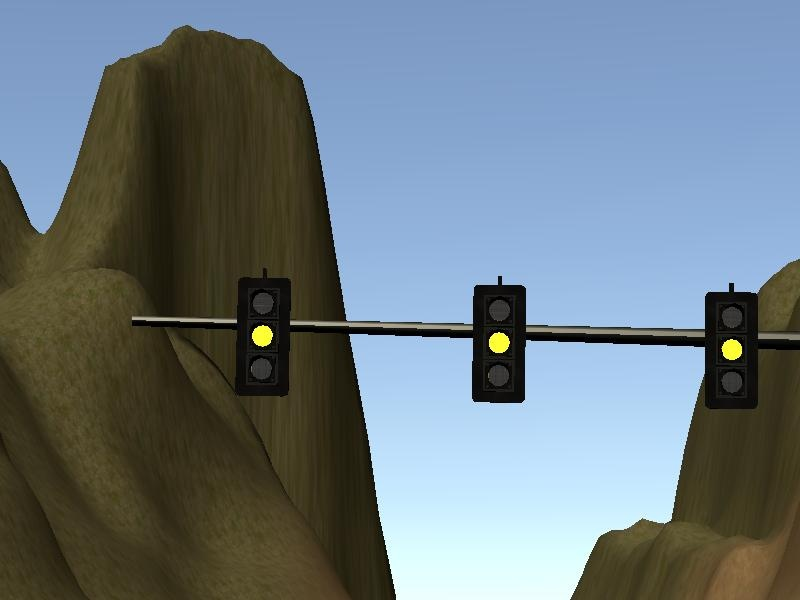YELLOW: (702, 279, 761, 411), (471, 274, 530, 406), (232, 266, 291, 398)
